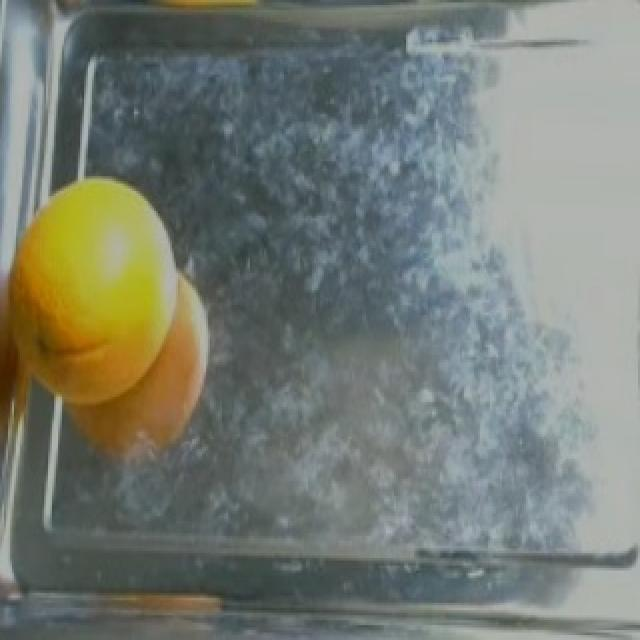Fruit: (0, 156, 196, 484), (92, 0, 328, 40)
